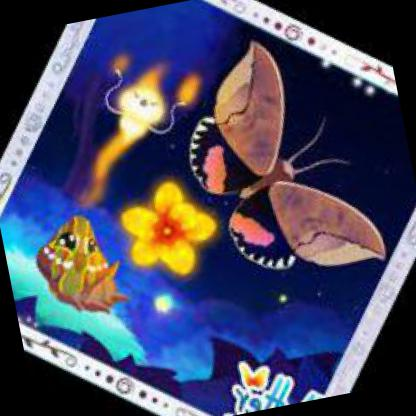fruit sucking moth: (188, 41, 386, 271)
